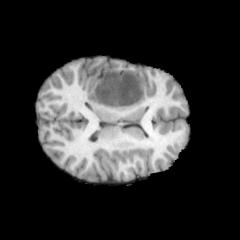glioma: (88, 70, 145, 108)
